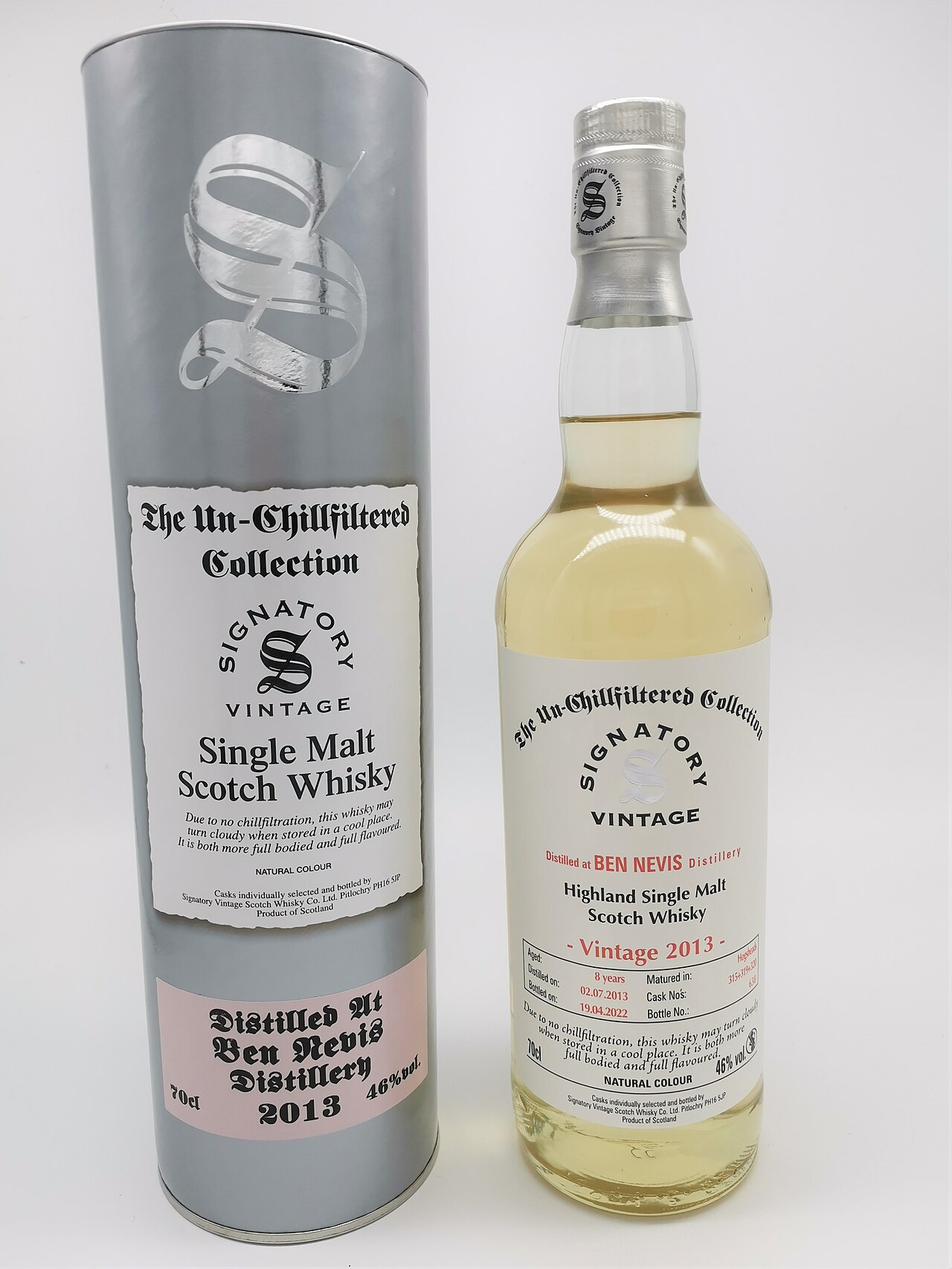unknown_bottle: (85, 20, 440, 1248), (496, 93, 772, 1222)
